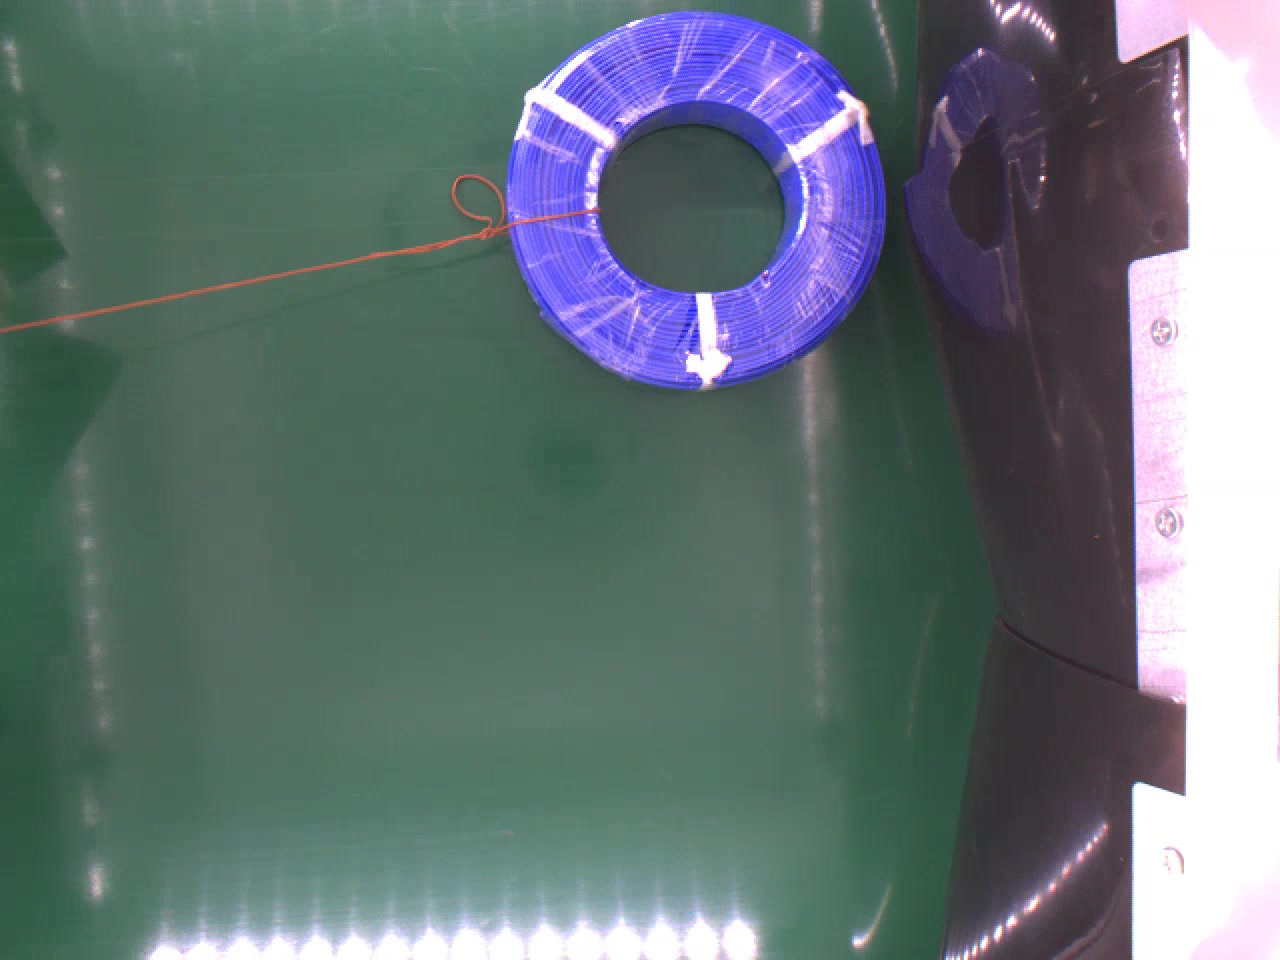blue: (506, 9, 886, 392)
